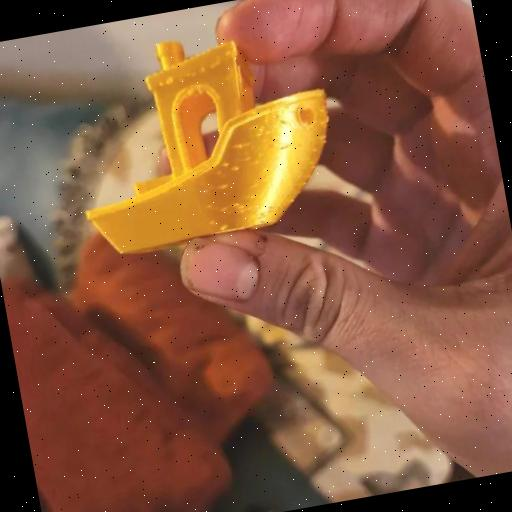blobs: (202, 200, 214, 212), (214, 182, 228, 192), (230, 163, 242, 174), (212, 167, 224, 178), (249, 120, 260, 132), (318, 133, 329, 145), (236, 140, 248, 150), (230, 198, 240, 210), (217, 204, 228, 213), (218, 222, 228, 231), (221, 160, 230, 168), (207, 216, 215, 225)
